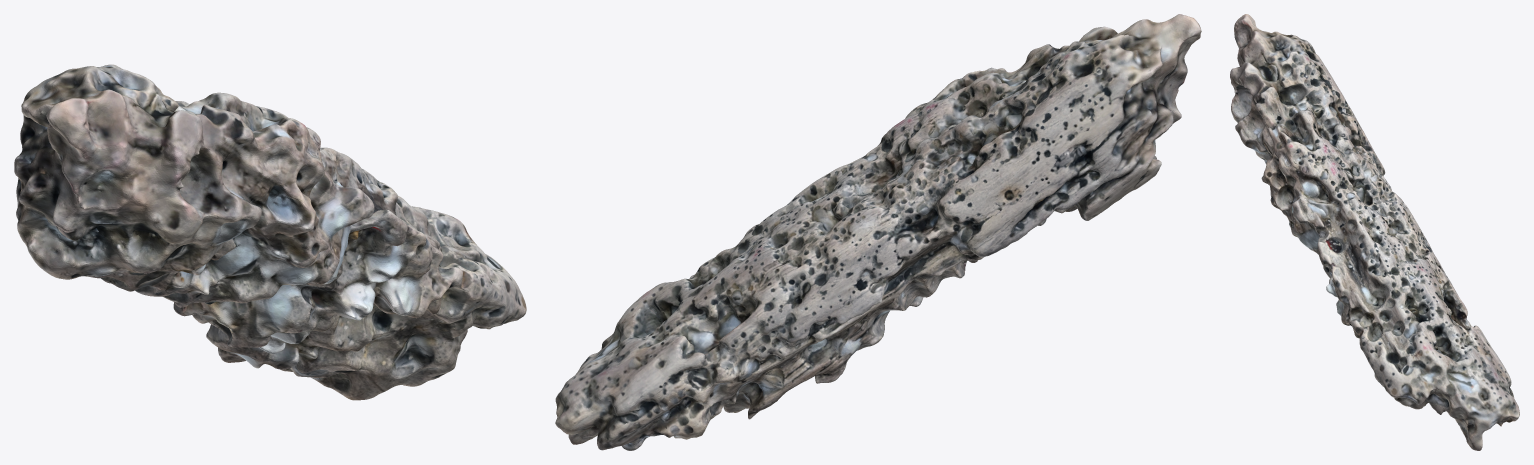
The model's file is MZUR3D-043.glb.
The picture shows the model from 3 angles, left to right: view 1: azimuth 30°, elevation 25°; view 2: azimuth 150°, elevation 25°; view 3: azimuth 270°, elevation 25°; orthographic projection. The views are drawn at different scales.
Parts seen in each view (by area): view 1: MZUR3D-043; view 2: MZUR3D-043; view 3: MZUR3D-043.
Boxes of the visible parts, <box> form: MZUR3D-043: <box>14,64,526,400</box>; MZUR3D-043: <box>555,14,1201,450</box>; MZUR3D-043: <box>1230,14,1519,450</box>.
Size of the model in its own units: 0.234 by 0.1986 by 0.1825.
Materials: 1 (1 with a texture image).
